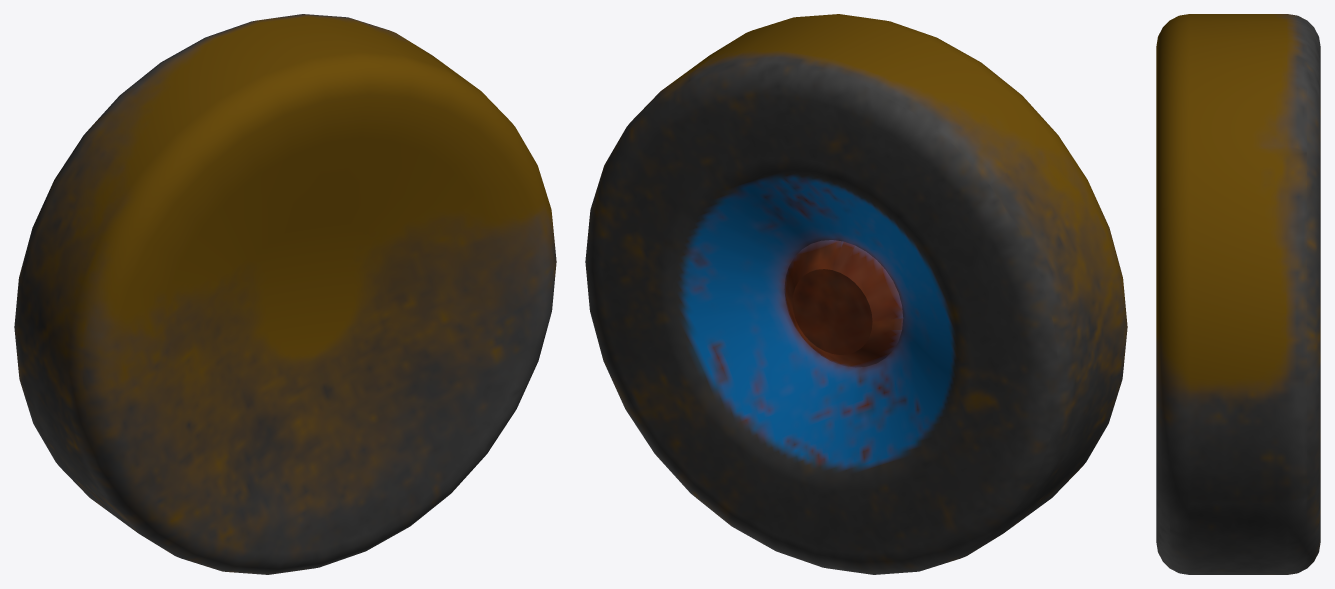
The model's file is WorkTruckWheel.fbx.
3 views of the same model, side by side, from view 1: azimuth 30°, elevation 25°; view 2: azimuth 150°, elevation 25°; view 3: azimuth 270°, elevation 25° (orthographic).
Parts seen in each view (by area): view 1: Cylinder.006; view 2: Cylinder.006; view 3: Cylinder.006.
Part boxes in pixels (x1,y1,x2,y2): Cylinder.006: (14, 14, 556, 574); Cylinder.006: (585, 14, 1127, 574); Cylinder.006: (1156, 14, 1320, 574).
Size of the model in its own units: 56.32 by 56.32 by 16.49.
